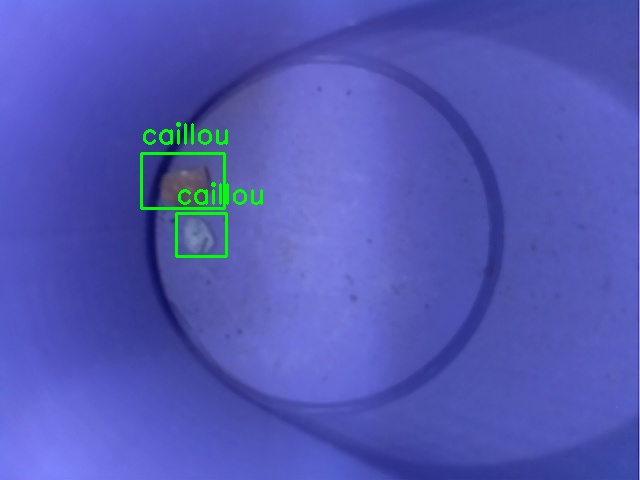caillou: (141, 153, 224, 208), (176, 213, 226, 256)
